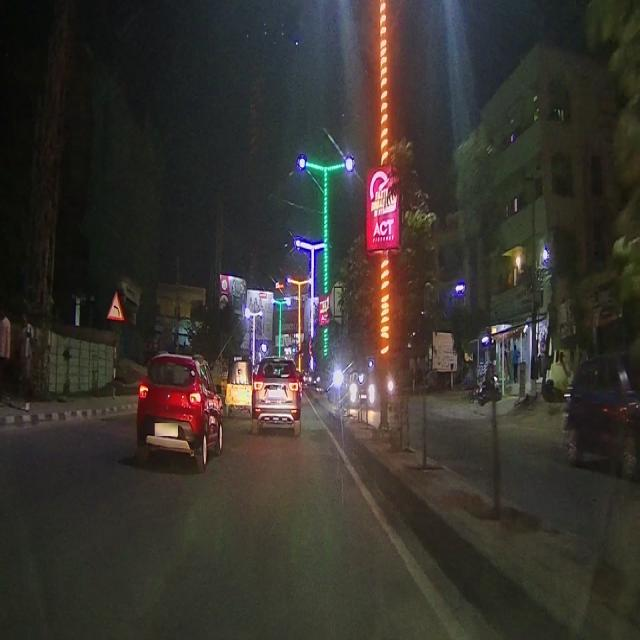left-hand-curve: (109, 289, 124, 319)
